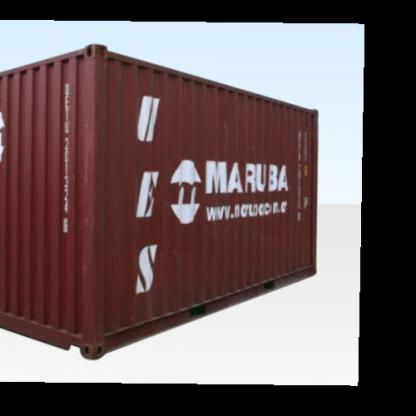Damage: (92, 298, 146, 337), (149, 233, 203, 261), (72, 118, 90, 202), (204, 105, 235, 133)
